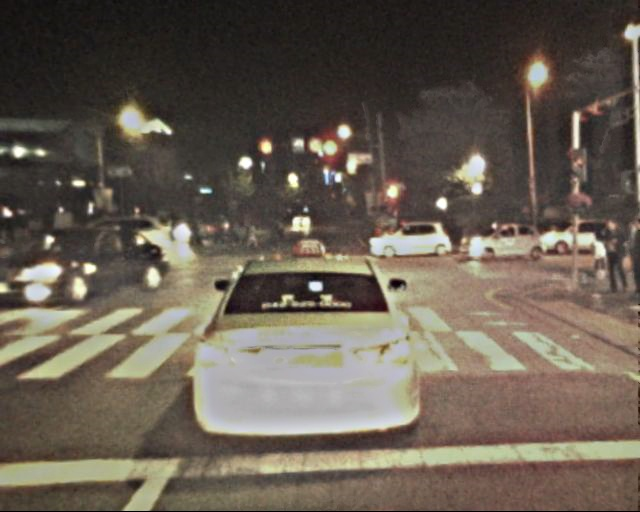person: (599, 218, 631, 295), (589, 234, 608, 280), (180, 213, 203, 248), (265, 216, 285, 249), (239, 214, 253, 249), (224, 215, 238, 250), (209, 215, 222, 247)
